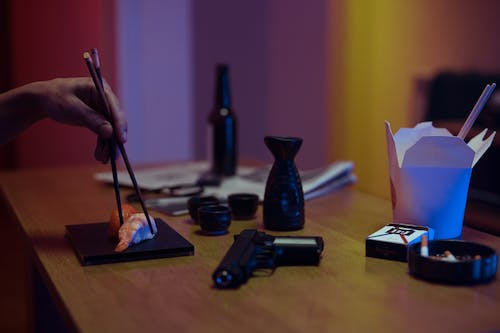alcohol: (260, 130, 308, 232), (205, 58, 240, 178), (195, 203, 233, 235), (185, 195, 222, 224), (226, 191, 259, 221)
cigarette: (363, 218, 436, 260), (428, 254, 460, 263), (420, 232, 430, 259), (444, 248, 458, 260), (475, 254, 482, 261)
gun: (210, 228, 325, 291)
